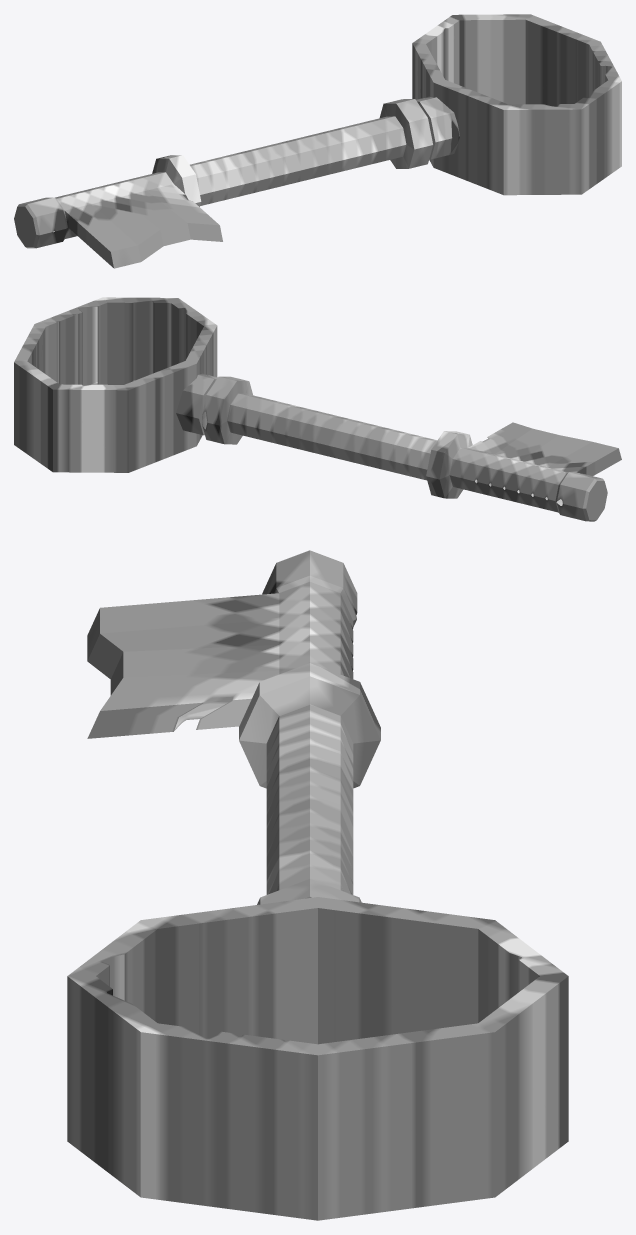
File: Key2.fbx
The picture shows the model from 3 angles, top to bottom: view 1: azimuth 30°, elevation 25°; view 2: azimuth 150°, elevation 25°; view 3: azimuth 270°, elevation 25°; orthographic projection. The views are drawn at different scales.
Parts seen in each view (by area): view 1: OldKey; view 2: OldKey; view 3: OldKey.
Boxes of the visible parts, box(x1,y1,x2,y2) form: OldKey: box(14, 14, 621, 268); OldKey: box(14, 297, 621, 521); OldKey: box(67, 550, 568, 1220).
Size of the model in its own units: 172 by 24.23 by 66.54.
